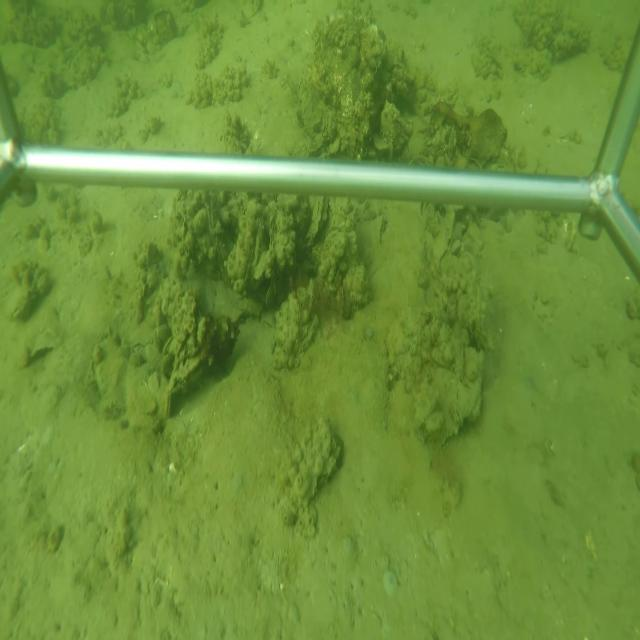Oyster-Closed: (423, 362, 483, 448), (164, 332, 213, 423), (7, 279, 42, 327), (244, 217, 262, 290), (301, 196, 323, 247)
Oyster-Indeterminate: (289, 422, 342, 522), (24, 325, 63, 364)
